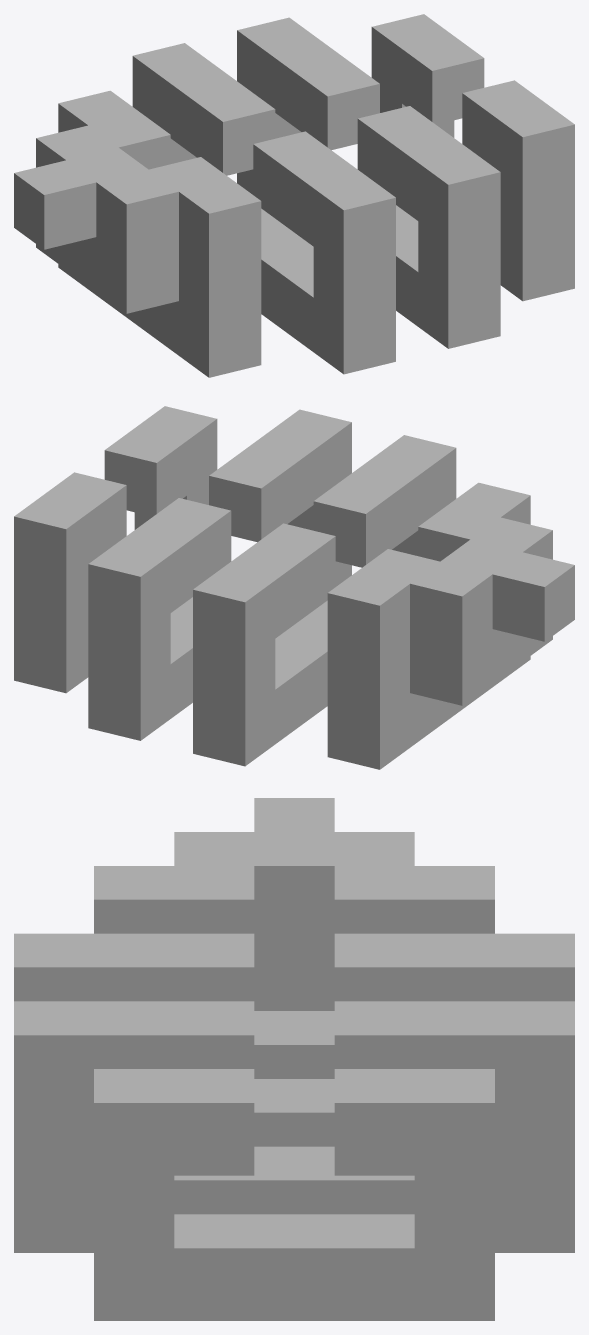
File: bones_2.obj
3 views of the same model, one above another, from view 1: azimuth 30°, elevation 25°; view 2: azimuth 150°, elevation 25°; view 3: azimuth 270°, elevation 25° (orthographic). The views are drawn at different scales.
Size of the model in its own units: 0.9 by 0.3 by 0.7.
1 material, 1 textured.
